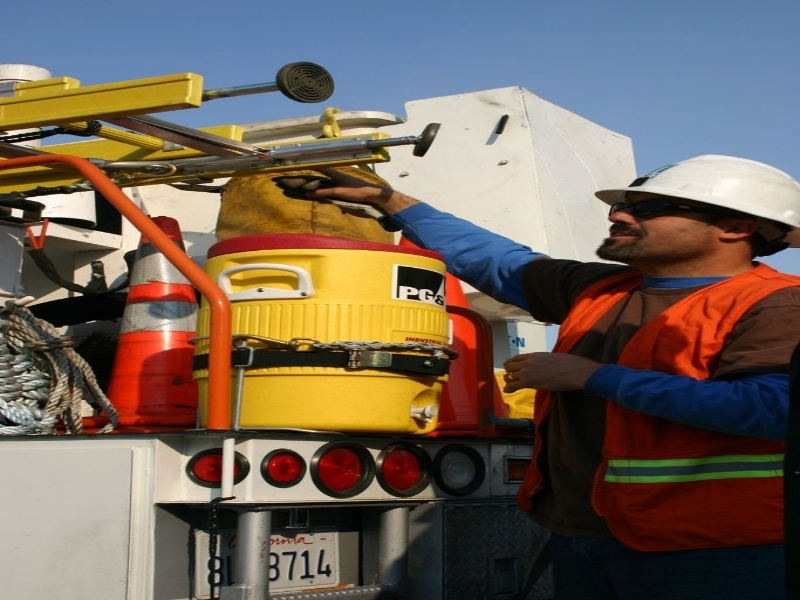Baret: (609, 146, 800, 223)
Gozluk: (607, 199, 704, 218)
